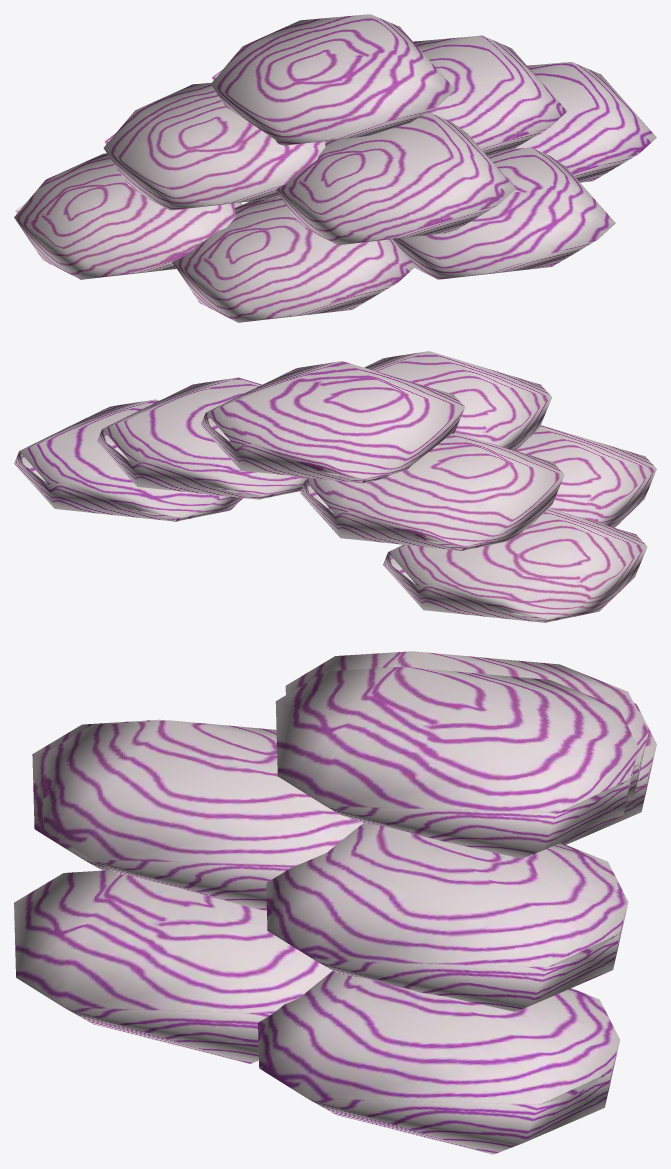
File: tasCailloux.glb
3 views of the same model, one above another, from view 1: azimuth 30°, elevation 25°; view 2: azimuth 150°, elevation 25°; view 3: azimuth 270°, elevation 25° (orthographic). The views are drawn at different scales.
Visible parts, largest first — view 1: Cailloux; view 2: Cailloux; view 3: Cailloux.
Boxes of the visible parts, x1=… form: Cailloux: x1=14, y1=14, x2=656, y2=322; Cailloux: x1=14, y1=351, x2=656, y2=622; Cailloux: x1=14, y1=651, x2=656, y2=1154.
Size of the model in its own units: 3.27 by 0.8193 by 1.98.
1 material, 1 textured.
